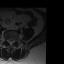CCS_normal: (10, 39, 12, 46)
LFS_normal: (13, 38, 15, 44)
LLS_normal: (12, 38, 14, 45)
RFS_normal: (6, 37, 8, 43)
RLS_normal: (8, 38, 10, 44)
